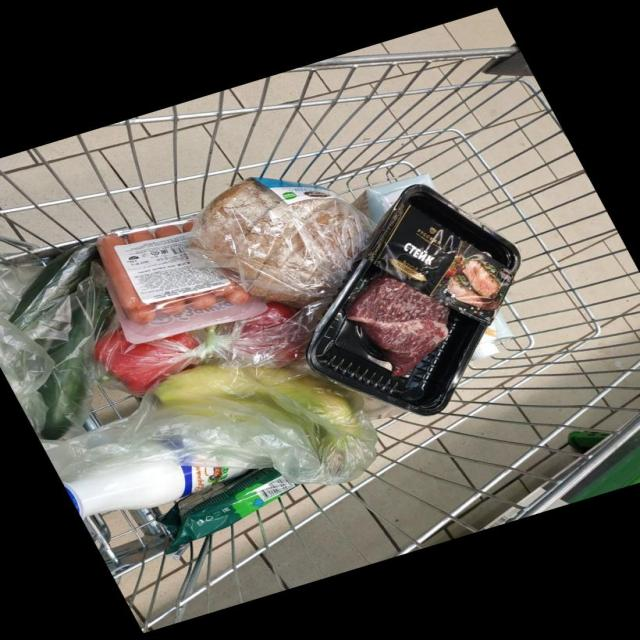banana: (145, 204, 443, 617), (132, 206, 402, 614)
cheese: (145, 235, 403, 640)
cucumber: (51, 146, 157, 425), (41, 136, 138, 390)
milk: (96, 248, 308, 640)
tomato: (134, 181, 429, 539), (119, 163, 360, 499), (99, 175, 298, 517)
